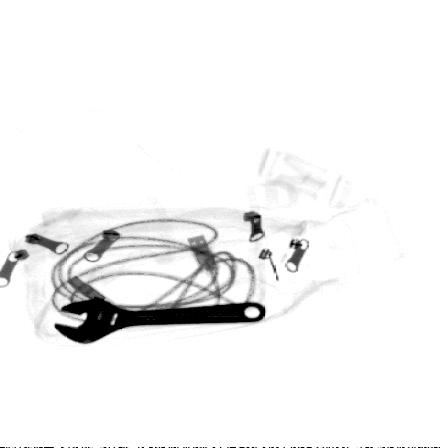Wrench: (49, 293, 269, 346)
